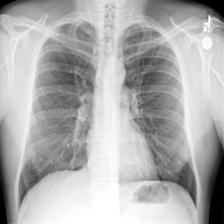normal: (15, 16, 200, 210)
